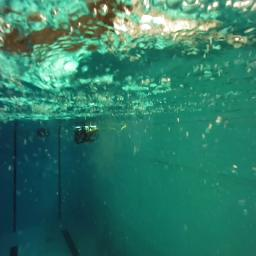Full: (37, 128, 49, 137), (36, 129, 49, 137)
back: (73, 125, 99, 145), (73, 123, 99, 143)
